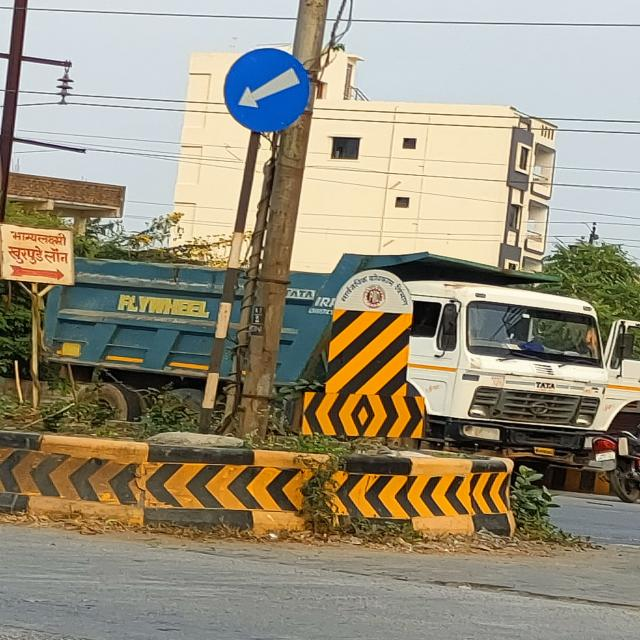COMPULSARY_KEEP_LEFT: (220, 44, 318, 138)
